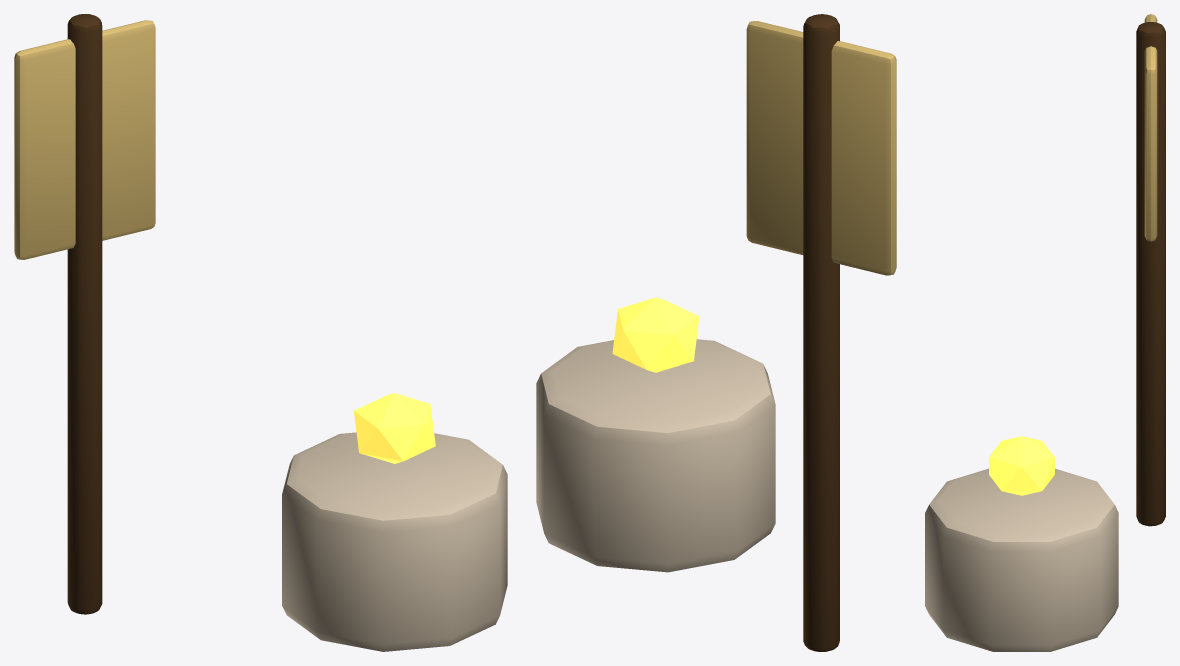
The model's file is landmark_watchpost_reclaimed_dressing.glb.
3 views of the same model, side by side, from view 1: azimuth 30°, elevation 25°; view 2: azimuth 150°, elevation 25°; view 3: azimuth 270°, elevation 25° (orthographic). The views are drawn at different scales.
Visible parts, largest first — view 1: pedestal, banner_cloth, banner_pole, pedestal_glow; view 2: pedestal, banner_cloth, banner_pole, pedestal_glow; view 3: pedestal, banner_pole, pedestal_glow, banner_cloth.
Boxes of the visible parts, x1,y1,x2,y2 form: pedestal: (282, 432, 507, 651); banner_cloth: (14, 20, 155, 259); banner_pole: (67, 14, 102, 614); pedestal_glow: (354, 393, 435, 463); pedestal: (536, 339, 775, 572); banner_cloth: (746, 21, 896, 275); banner_pole: (803, 14, 839, 651); pedestal_glow: (612, 297, 699, 372); pedestal: (925, 468, 1118, 651); banner_pole: (1136, 21, 1165, 526); pedestal_glow: (989, 436, 1054, 495); banner_cloth: (1144, 14, 1157, 241).
Bounding box in the file's own units: 1.2 × 1.7 × 0.7459.
